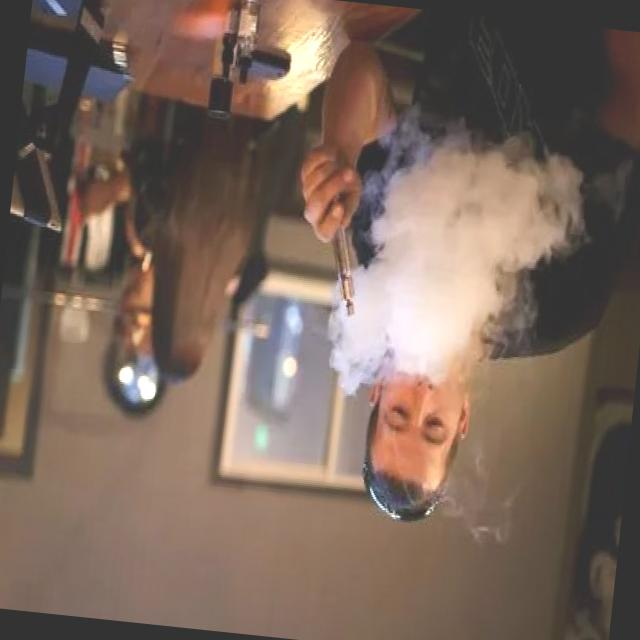smoke: (322, 208, 367, 324)
